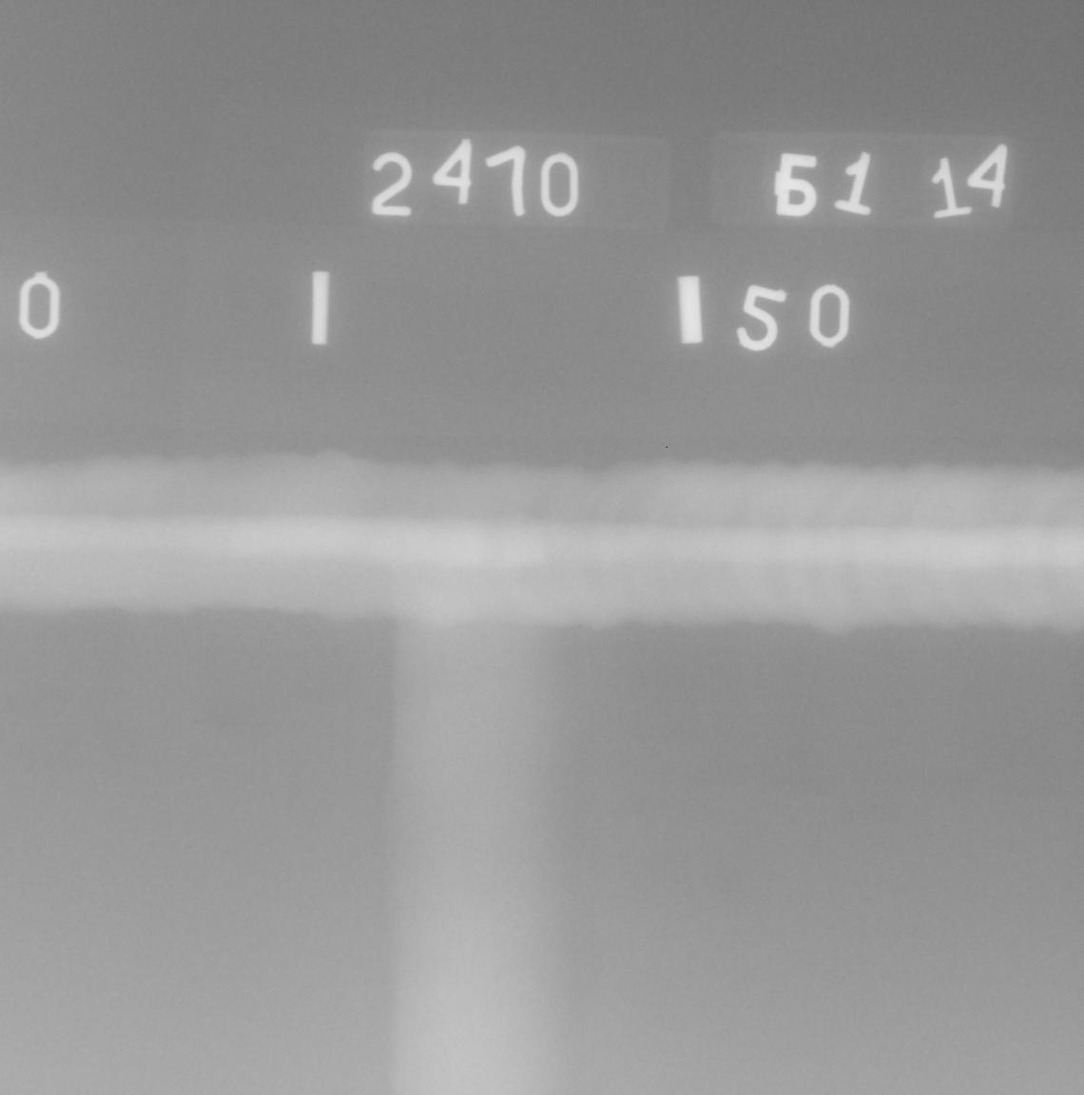Pore/Porosity: (616, 517, 620, 522)
